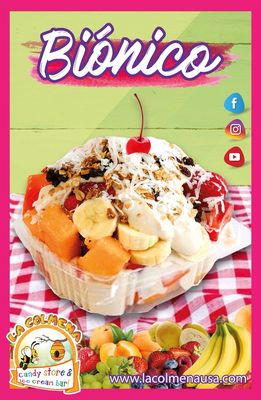pasta: (182, 306, 252, 380)
taco: (75, 236, 131, 280)
